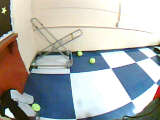Ball: (32, 103, 40, 112), (76, 49, 83, 56), (89, 57, 95, 64)
